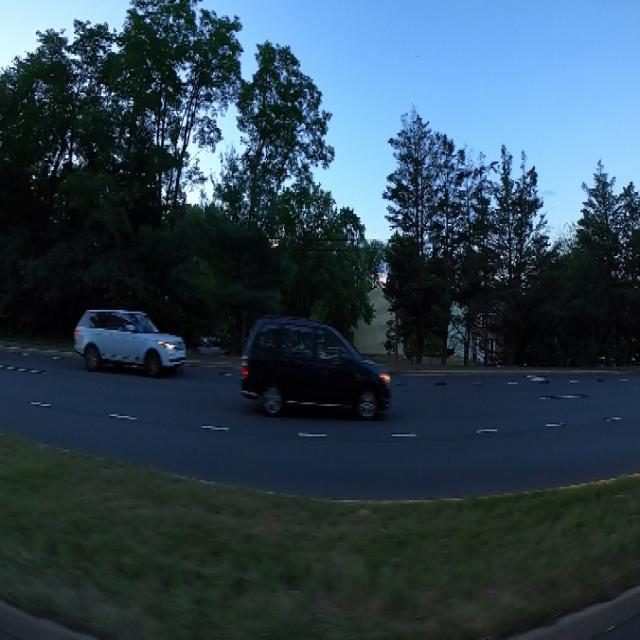cars: (234, 310, 396, 431), (75, 292, 197, 392)
